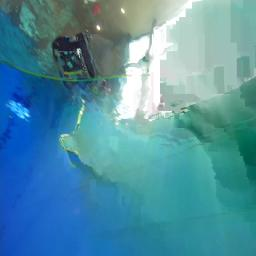Full: (53, 31, 99, 88)
